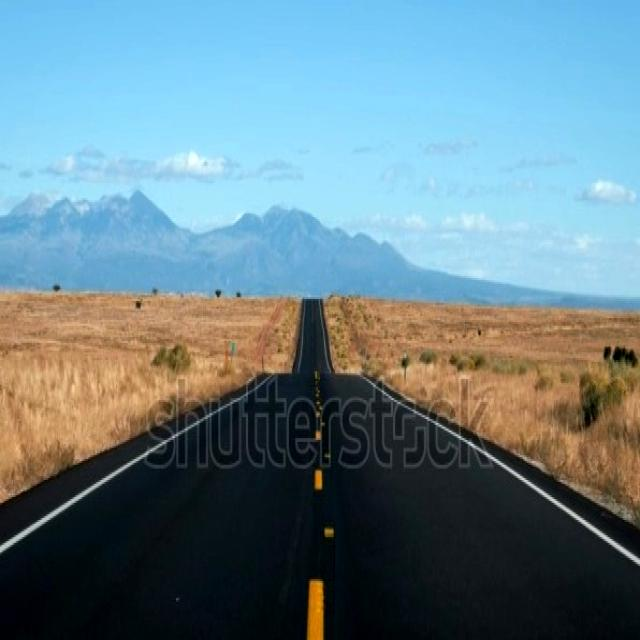lane: (484, 449, 640, 567), (1, 450, 149, 553), (293, 299, 334, 636), (307, 579, 323, 638), (314, 469, 322, 490), (323, 526, 334, 537)
